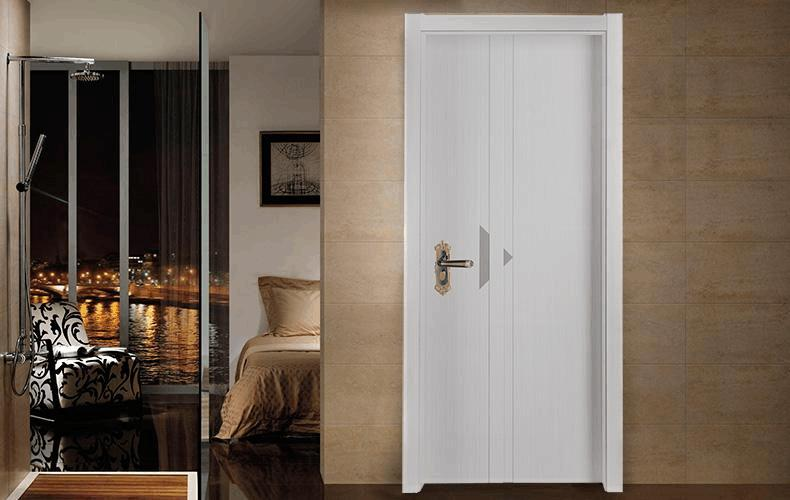door: (421, 32, 598, 482)
